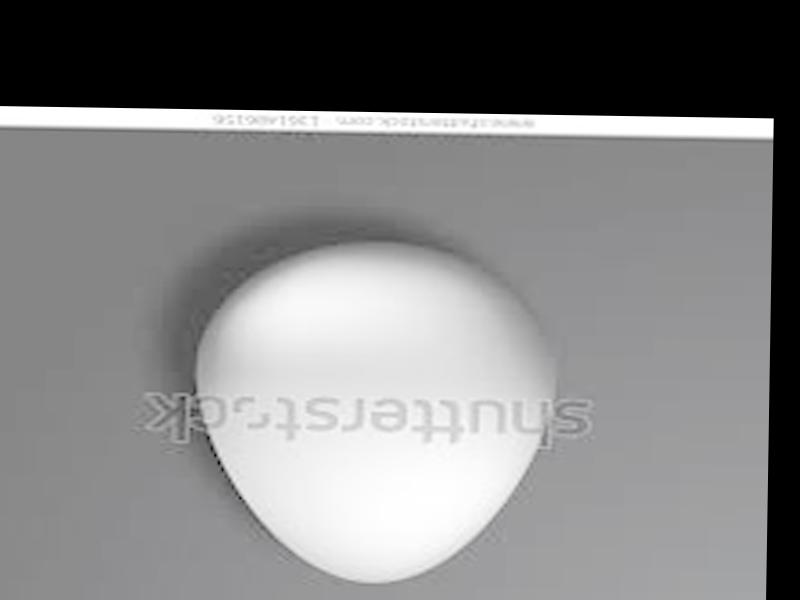Eggs: (193, 242, 557, 588)
